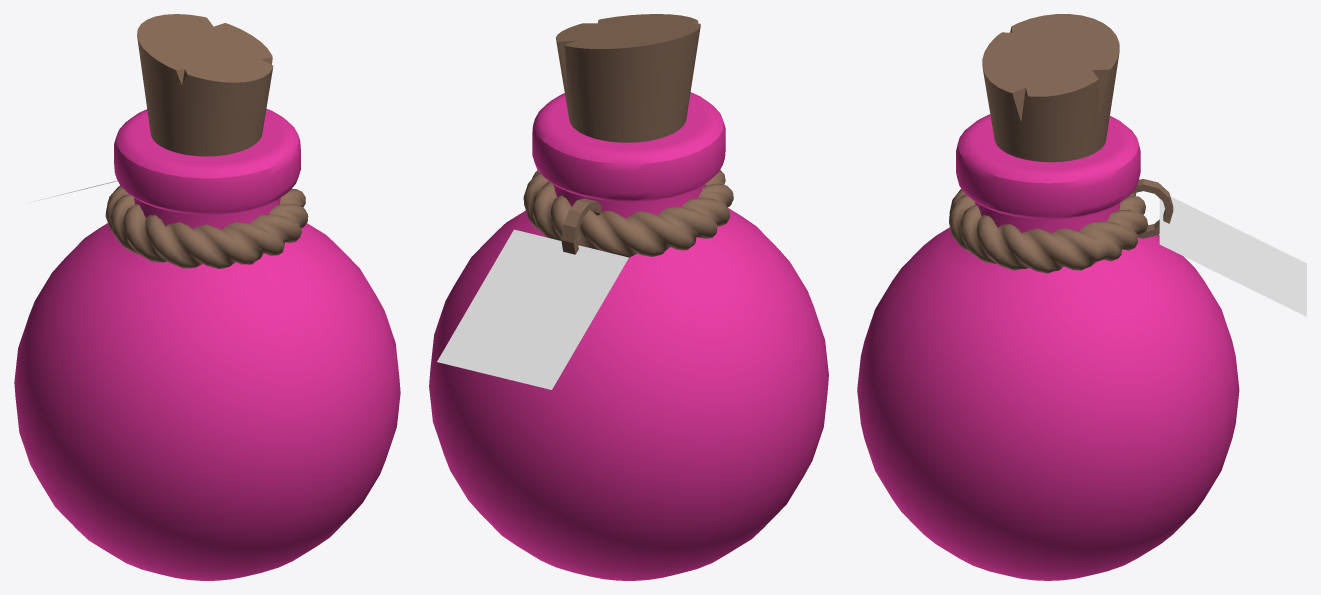
File: potion2.fbx
The picture shows the model from 3 angles, left to right: view 1: azimuth 30°, elevation 25°; view 2: azimuth 150°, elevation 25°; view 3: azimuth 270°, elevation 25°; orthographic projection. The views are drawn at different scales.
Parts seen in each view (by area): view 1: Sphere, Sphere.003, Circle.001; view 2: Sphere, Plane, Sphere.003, Circle.001, Cylinder; view 3: Sphere, Sphere.003, Circle.001, Plane, Cylinder.
Part boxes in pixels (x1,y1,x2,y2): Sphere: [14, 108, 400, 580]; Sphere.003: [137, 14, 273, 156]; Circle.001: [105, 185, 308, 268]; Sphere: [429, 92, 828, 580]; Plane: [437, 229, 628, 389]; Sphere.003: [556, 14, 700, 142]; Circle.001: [523, 170, 733, 257]; Cylinder: [561, 198, 601, 254]; Sphere: [857, 114, 1239, 580]; Sphere.003: [982, 14, 1119, 162]; Circle.001: [949, 189, 1148, 273]; Plane: [1159, 196, 1306, 316]; Cylinder: [1125, 179, 1173, 238].
Bounding box in the file's own units: 200 × 301 × 235.
